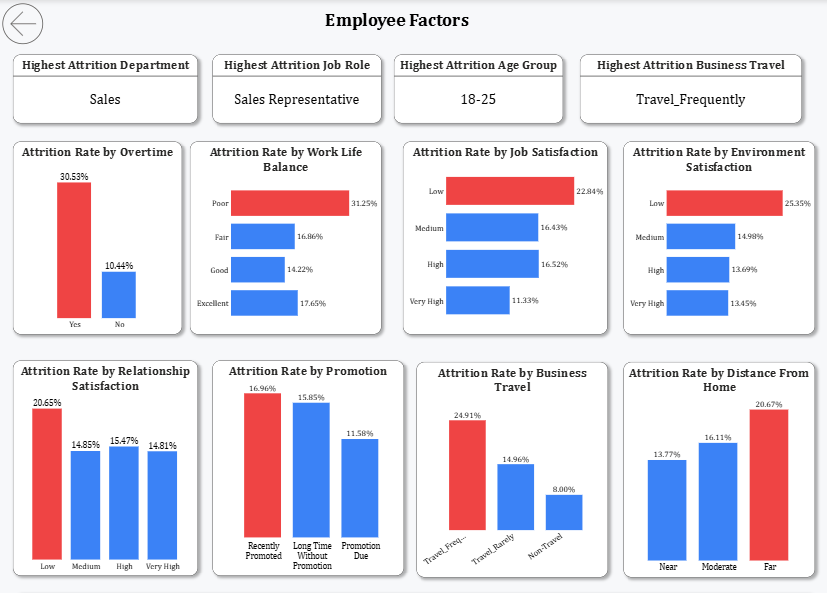

The dashboard page shown, as its layout file describes it:
{"tool":"powerbi","page":{"name":"Employee Factors Attrition","canvas":[3110,2500],"ordinal":1},"visuals":[{"type":"cardVisual","title":"Highest Attrition Department","fields":{"Data":["HR_Analytics_clean.Highest Attrition Department"]},"box":[54.4,207,692.7,257.3],"z":0},{"type":"cardVisual","title":"Highest Attrition Job Role","fields":{"Data":["HR_Analytics_clean.Highest Attrition Job Role"]},"box":[806.5,207,633.3,257.3],"z":1000},{"type":"cardVisual","title":"Highest Attrition Age Group","fields":{"Data":["HR_Analytics_clean.Highest Attrition Age Group"]},"box":[1484.3,207,633.3,257.3],"z":2000},{"type":"cardVisual","title":"Highest Attrition Business Travel","fields":{"Data":["HR_Analytics_clean.Highest Attrition Business Travel"]},"box":[2181.9,207,831.2,257.3],"z":3000},{"type":"textbox","title":"Employee Factors","box":[691.5,39.4,1608,84.3],"z":4000},{"type":"clusteredColumnChart","title":"Attrition Rate by Overtime","fields":{"Y":["HR_Analytics_clean.Attrition Rate"],"Category":["HR_Analytics_clean.OverTime"]},"box":[54.4,534.3,633.3,722.4],"z":5000},{"type":"clusteredBarChart","title":"Attrition Rate by Work Life Balance","fields":{"Category":["HR_Analytics_clean.WorkLifeBalance_Category"],"Y":["HR_Analytics_clean.Attrition Rate"]},"box":[722.4,534.3,717.4,722.4],"z":6000},{"type":"clusteredBarChart","title":"Attrition Rate by Job Satisfaction","fields":{"Category":["HR_Analytics_clean.JobSatisfaction_Category"],"Y":["HR_Analytics_clean.Attrition Rate"]},"box":[1518.9,534.3,766.9,722.4],"z":7000},{"type":"clusteredBarChart","title":"Attrition Rate by Environment","fields":{"Category":["HR_Analytics_clean.EnvironmentSatisfaction_Category"],"Y":["HR_Analytics_clean.Attrition Rate"]},"box":[2345.2,534.3,717.4,722.4],"z":8000},{"type":"clusteredColumnChart","title":"Attrition Rate by Relationship Satisfaction","fields":{"Y":["HR_Analytics_clean.Attrition Rate"],"Category":["HR_Analytics_clean.RelationshipSatisfaction_Category"]},"box":[54.4,1355.7,692.7,806.5],"z":9000},{"type":"clusteredColumnChart","title":"Attrition Rate by Promotion","fields":{"Category":["HR_Analytics_clean.PromotionStatus"],"Y":["HR_Analytics_clean.Attrition Rate"]},"box":[801.5,1355.7,717.4,806.5],"z":10000},{"type":"clusteredColumnChart","title":"Attrition Rate by Business Travel","fields":{"Category":["HR_Analytics_clean.BusinessTravel"],"Y":["HR_Analytics_clean.Attrition Rate"]},"box":[1568.4,1360.6,717.4,806.5],"z":11000},{"type":"clusteredColumnChart","title":"Attrition Rate by Distance From Home","fields":{"Y":["HR_Analytics_clean.Attrition Rate"],"Category":["HR_Analytics_clean.DistanceCategory"]},"box":[2345.2,1360.6,717.4,806.5],"z":12000},{"type":"textbox","title":"Key Insight : • Overtime meningkatkan attrition hingga 30.53%. • Poor Work-Life Balance memiliki attrition tertinggi (31.25%). • Frequent Business Travel dan jarak rumah yang jauh juga menunjukkan att","box":[56.2,2226.4,3007.9,179.9],"z":12001},{"type":"actionButton","box":[0,0,191.2,185.5],"z":12002}]}

Visuals, with their boxes on the page's 3110x2500 design canvas (x1, y1, x2, y2). These are canvas units, not pixel positions in the 827x593 screenshot, which may show the page scaled, cropped or inside an application window:
"Highest Attrition Department" cardVisual: box(54, 207, 747, 464)
"Highest Attrition Job Role" cardVisual: box(806, 207, 1440, 464)
"Highest Attrition Age Group" cardVisual: box(1484, 207, 2118, 464)
"Highest Attrition Business Travel" cardVisual: box(2182, 207, 3013, 464)
"Employee Factors" textbox: box(692, 39, 2300, 124)
"Attrition Rate by Overtime" clusteredColumnChart: box(54, 534, 688, 1257)
"Attrition Rate by Work Life Balance" clusteredBarChart: box(722, 534, 1440, 1257)
"Attrition Rate by Job Satisfaction" clusteredBarChart: box(1519, 534, 2286, 1257)
"Attrition Rate by Environment" clusteredBarChart: box(2345, 534, 3063, 1257)
"Attrition Rate by Relationship Satisfaction" clusteredColumnChart: box(54, 1356, 747, 2162)
"Attrition Rate by Promotion" clusteredColumnChart: box(802, 1356, 1519, 2162)
"Attrition Rate by Business Travel" clusteredColumnChart: box(1568, 1361, 2286, 2167)
"Attrition Rate by Distance From Home" clusteredColumnChart: box(2345, 1361, 3063, 2167)
"Key Insight : • Overtime meningkatkan attrition hingga 30.53%. • Poor Work-Life Balance memiliki attrition tertinggi (31.25%). • Frequent Business Travel dan jarak rumah yang jauh juga menunjukkan att" textbox: box(56, 2226, 3064, 2406)
actionButton: box(0, 0, 191, 186)
